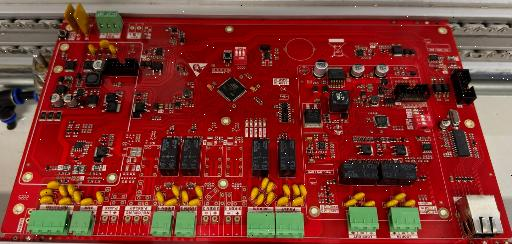var: (64, 2, 82, 37), (76, 2, 92, 39), (47, 180, 61, 189), (40, 188, 54, 197), (80, 197, 94, 206), (277, 196, 289, 206), (292, 196, 304, 206), (59, 185, 69, 197), (58, 197, 73, 205), (344, 198, 357, 207), (298, 184, 307, 197), (292, 184, 301, 197), (266, 191, 275, 204), (171, 185, 180, 198), (88, 44, 97, 57), (385, 199, 399, 207), (40, 196, 54, 204), (394, 192, 406, 201), (353, 192, 365, 201), (156, 191, 165, 203), (266, 181, 275, 193), (282, 184, 291, 196), (256, 193, 265, 205), (67, 184, 76, 196), (73, 190, 82, 202), (403, 199, 416, 207), (261, 177, 269, 190), (195, 185, 203, 198), (165, 198, 178, 206), (188, 198, 201, 206), (109, 44, 117, 57), (100, 39, 110, 49), (251, 187, 259, 199), (96, 191, 104, 203), (181, 190, 188, 203), (363, 200, 375, 207)
